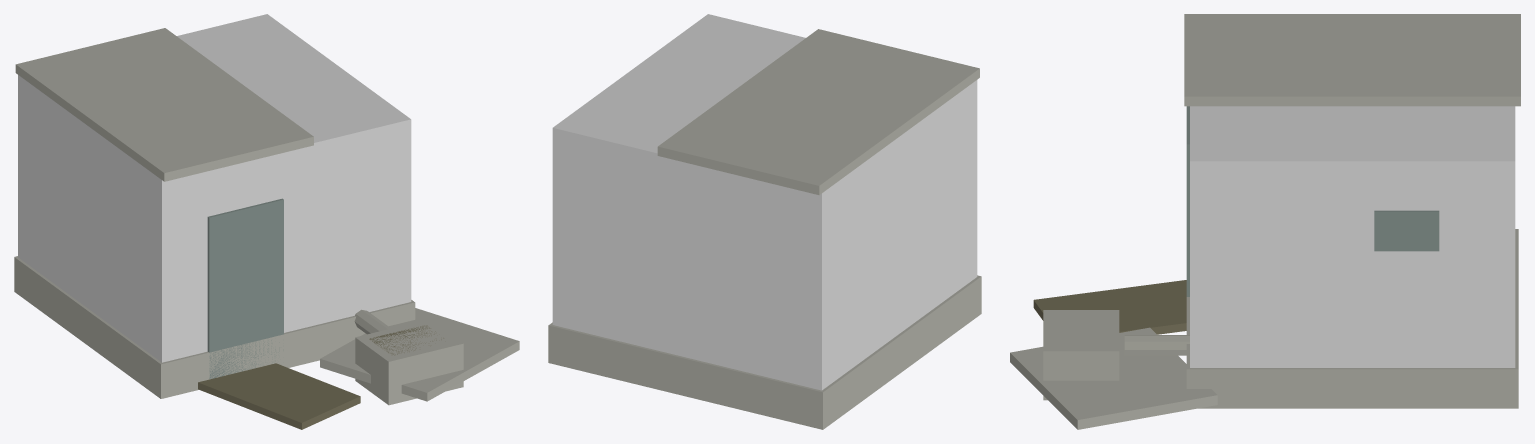
Rendered from SM_CasetaPozo_v3_Abandonada_LOD0.fbx.
3 renders of one model, left to right at view 1: azimuth 30°, elevation 25°; view 2: azimuth 150°, elevation 25°; view 3: azimuth 270°, elevation 25°, orthographic. The views are drawn at different scales.
Visible parts, largest first — view 1: SM_huerta_nules_v3_LOD0; view 2: SM_huerta_nules_v3_LOD0; view 3: SM_huerta_nules_v3_LOD0.
Part boxes in pixels (x1,y1,x2,y2): SM_huerta_nules_v3_LOD0: (14,14,519,429); SM_huerta_nules_v3_LOD0: (548,14,981,429); SM_huerta_nules_v3_LOD0: (1010,14,1520,429).
Size of the model in its own units: 3.74 by 2.6 by 4.71.
